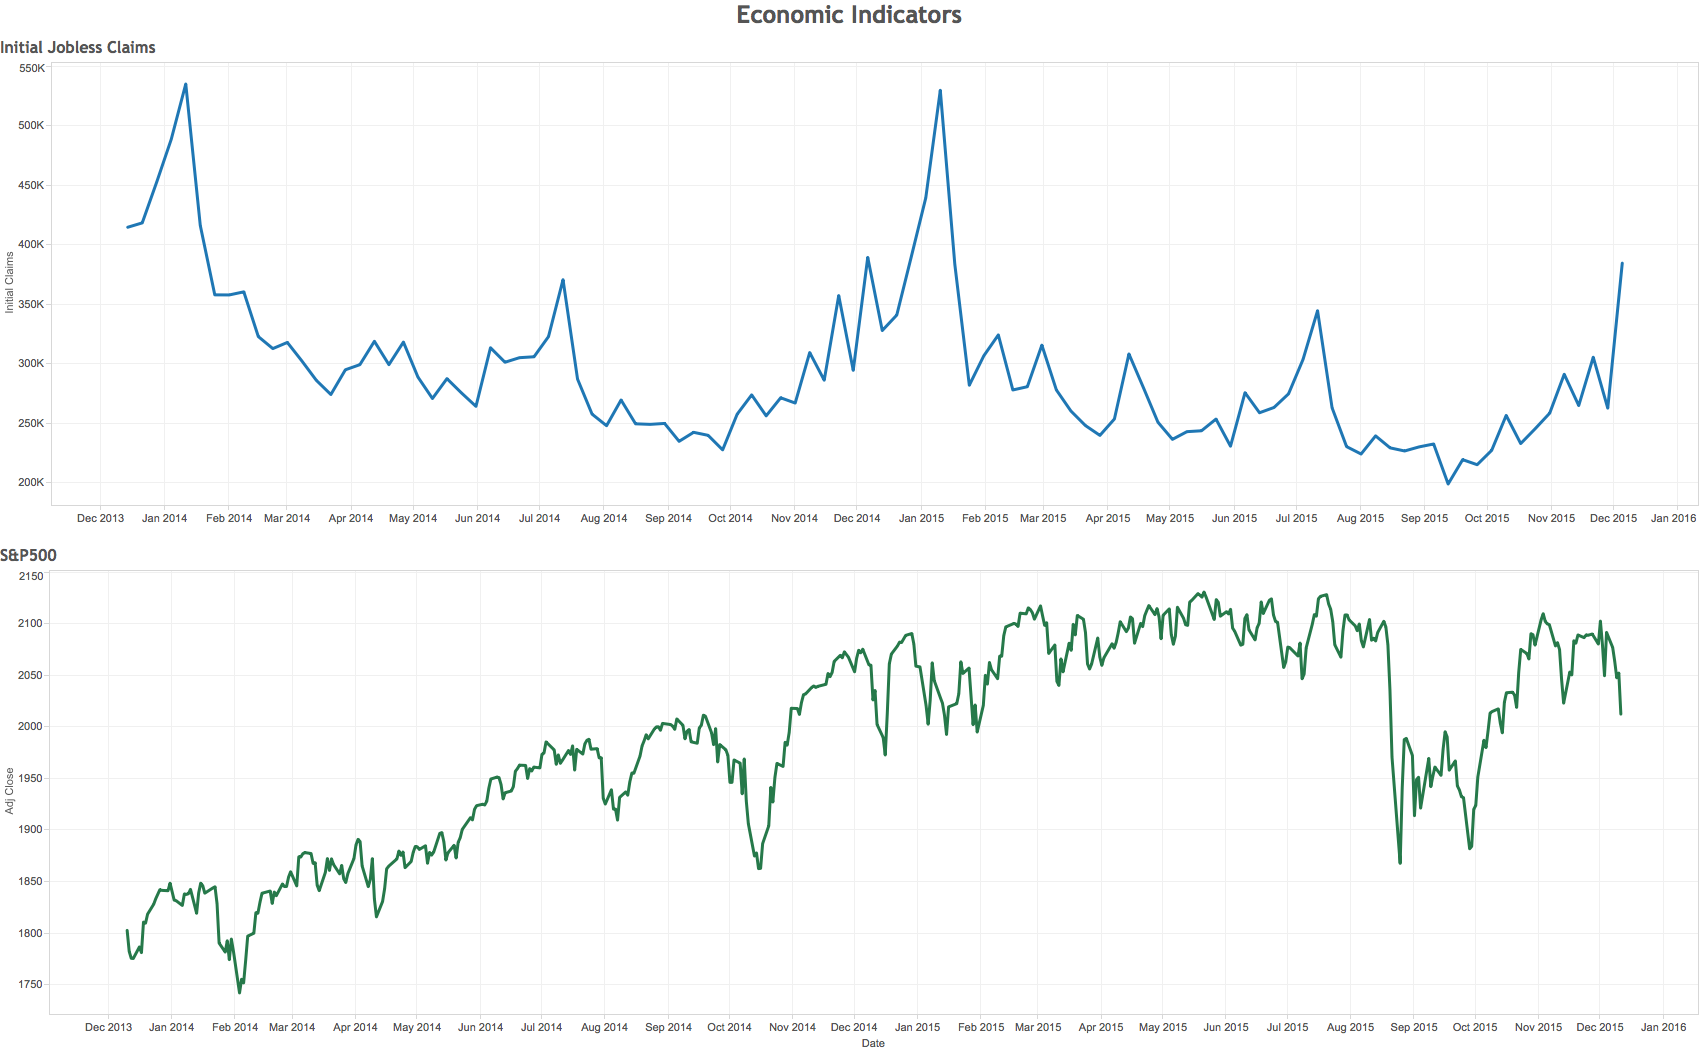

What the dashboard file says about the page in this screenshot:
{"tool":"tableau","page":{"name":"Econ","canvas":[1000,1000],"units":"permille","ordinal":0},"visuals":[{"type":"title","box":[0,0,1000,37.4]},{"type":"worksheet","title":"Initial Jobless Claims","mark":"Line","rows":["VALUE"],"cols":["DATE"],"box":[0,37.4,1000,475.7]},{"type":"worksheet","title":"S&P500","mark":"Line","rows":["Adj Close"],"cols":["Date"],"box":[0,513.1,1000,483.2]}]}

Visuals, with their boxes on the dashboard's canvas, which has no fixed pixel size, in thousandths of its width and height (x1, y1, x2, y2). These are canvas units, not pixel positions in the 1699x1053 screenshot, which may show the page scaled, cropped or inside an application window:
title: [0,0,1000,37]
"Initial Jobless Claims" worksheet (Line marks): [0,37,1000,513]
"S&P500" worksheet (Line marks): [0,513,1000,996]
